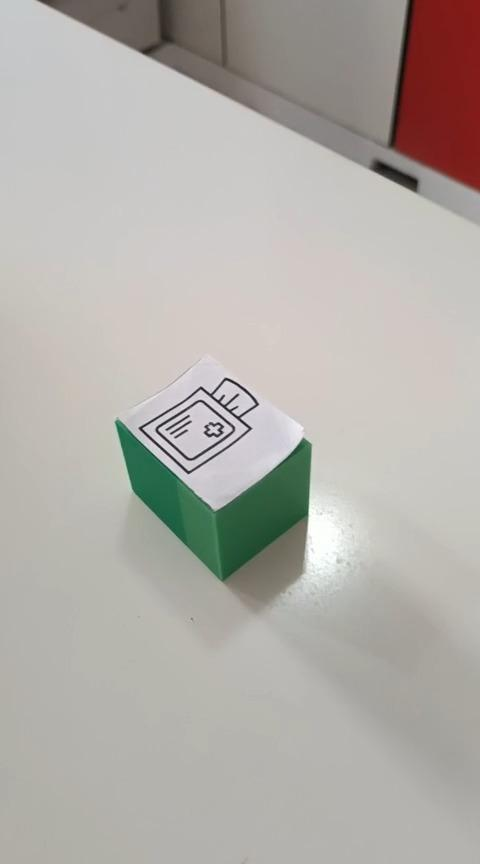Gauze: (113, 353, 312, 582)
